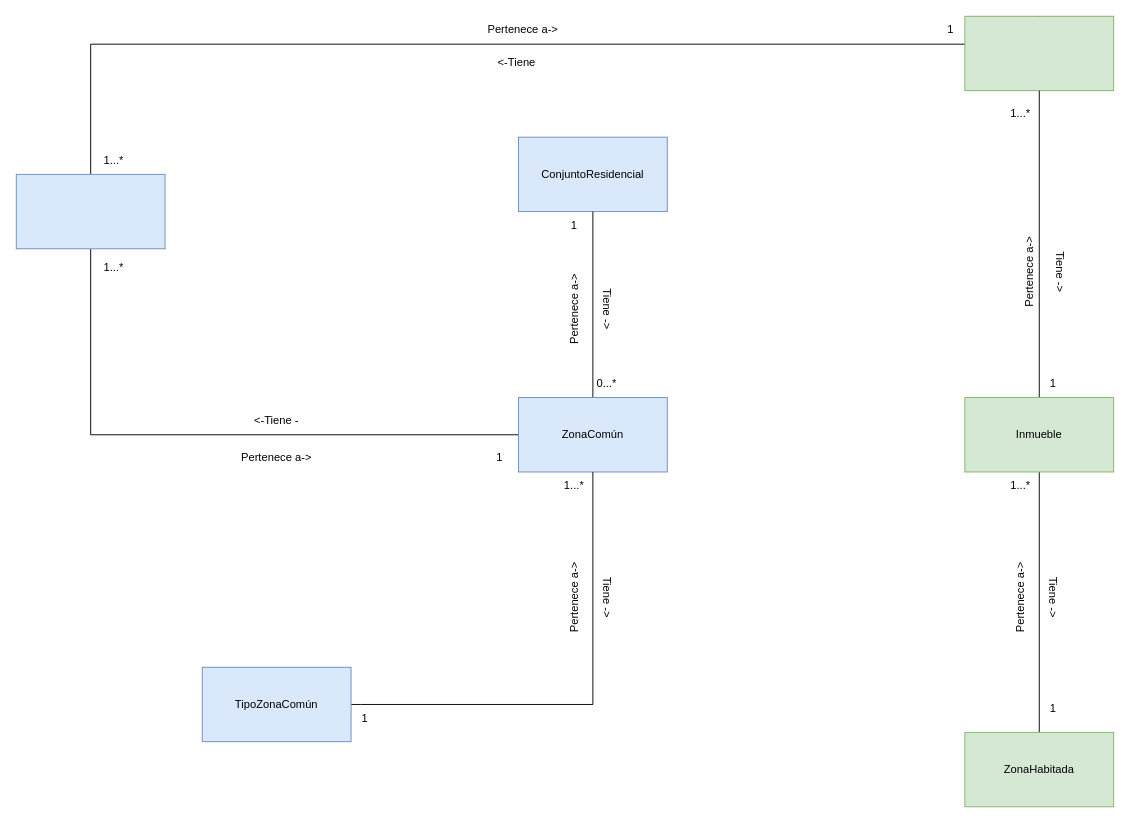
This 1130x823 diagram has some shape labels left out. The centre of each missing label's shape, as x and y in pixels:
Reserva: [90,211]
Residente: [1039,53]
